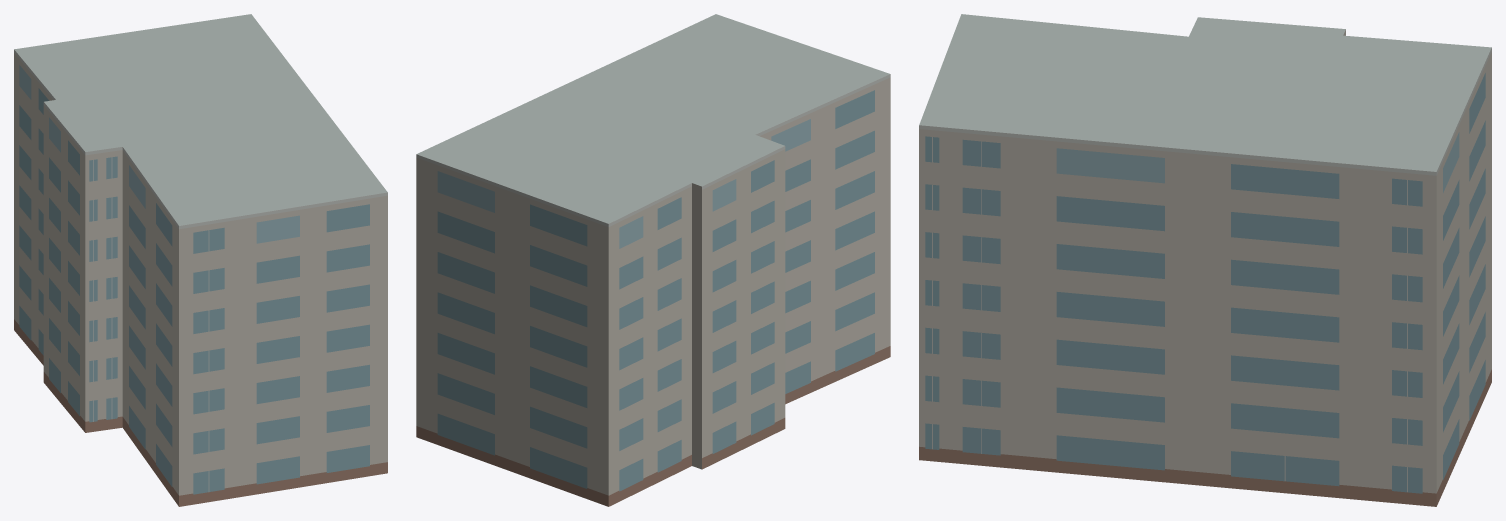
Rendered from survey-upis-32660957.glb.
3 renders of one model, left to right at view 1: azimuth 30°, elevation 25°; view 2: azimuth 150°, elevation 25°; view 3: azimuth 270°, elevation 25°, orthographic. The views are drawn at different scales.
Visible parts, largest first — view 1: survey-upis-32660957.tmp; view 2: survey-upis-32660957.tmp; view 3: survey-upis-32660957.tmp.
Part boxes in pixels (x1,y1,x2,y2): survey-upis-32660957.tmp: (14,14,387,506); survey-upis-32660957.tmp: (416,14,890,506); survey-upis-32660957.tmp: (919,14,1491,506).
Size of the model in its own units: 21.61 by 21.35 by 33.1.
